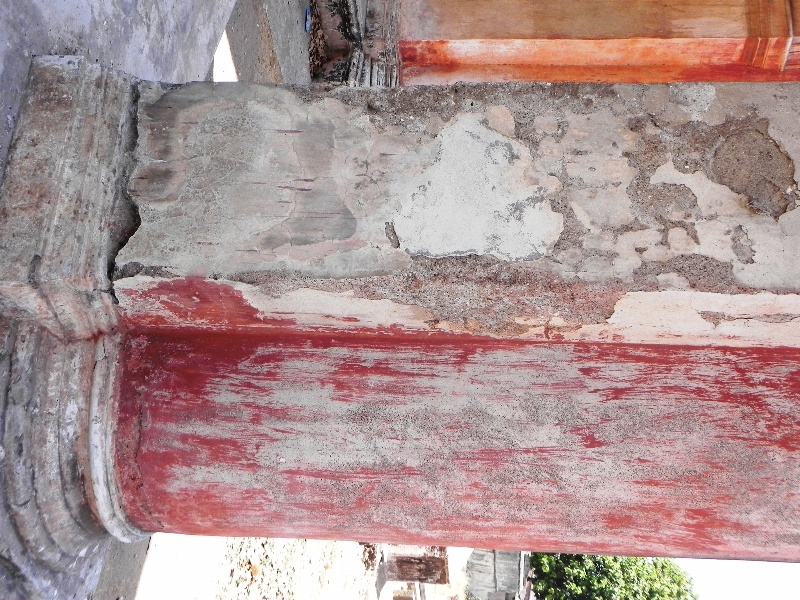Spalling: (267, 82, 666, 122), (677, 119, 799, 236), (95, 70, 160, 286)
